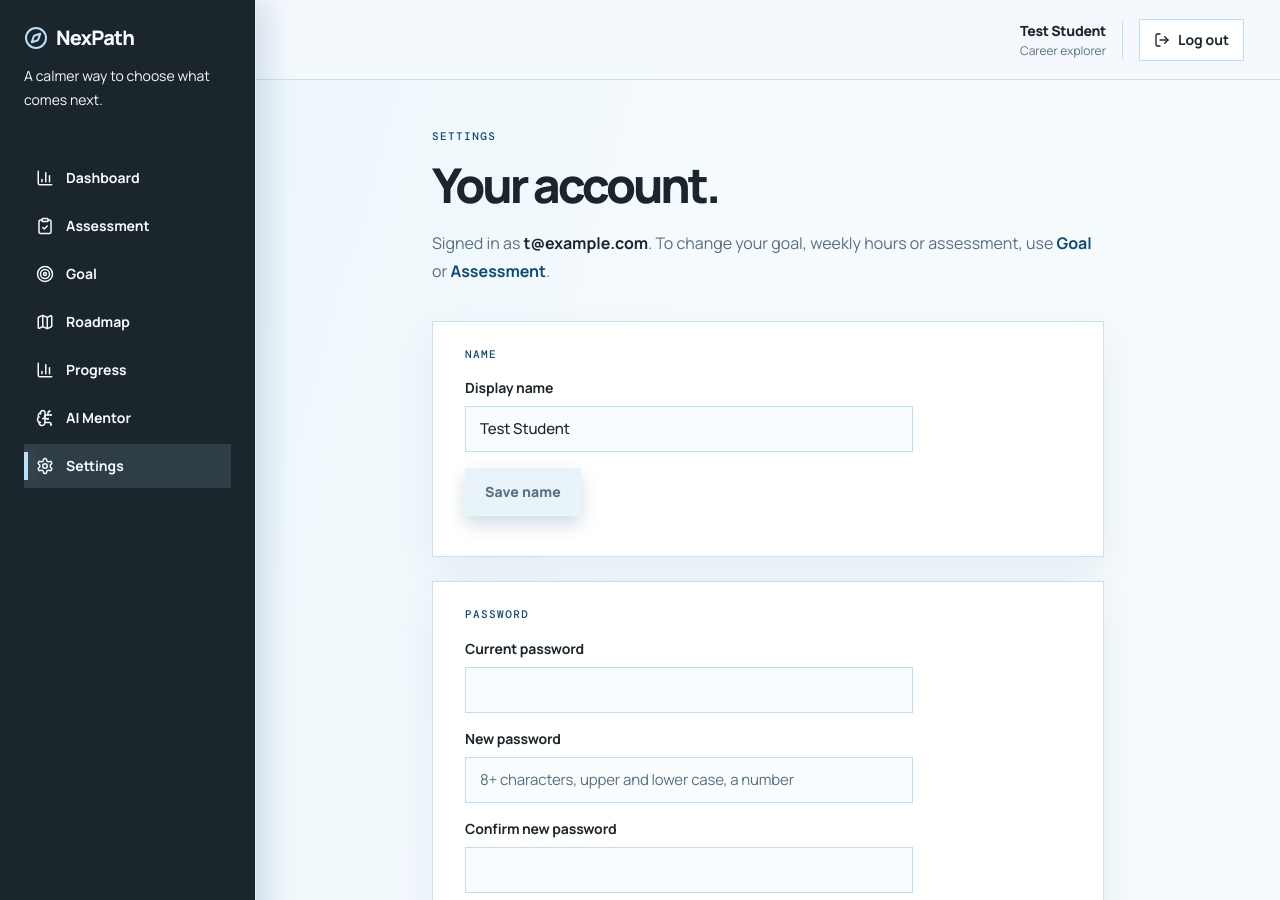
Scenario: settings page › saves a new name and refreshes the signed-in user
Replace the text in the field labelled "Display name" with "Priya Nair" at coordinates (689, 429), box [465,406,913,452]
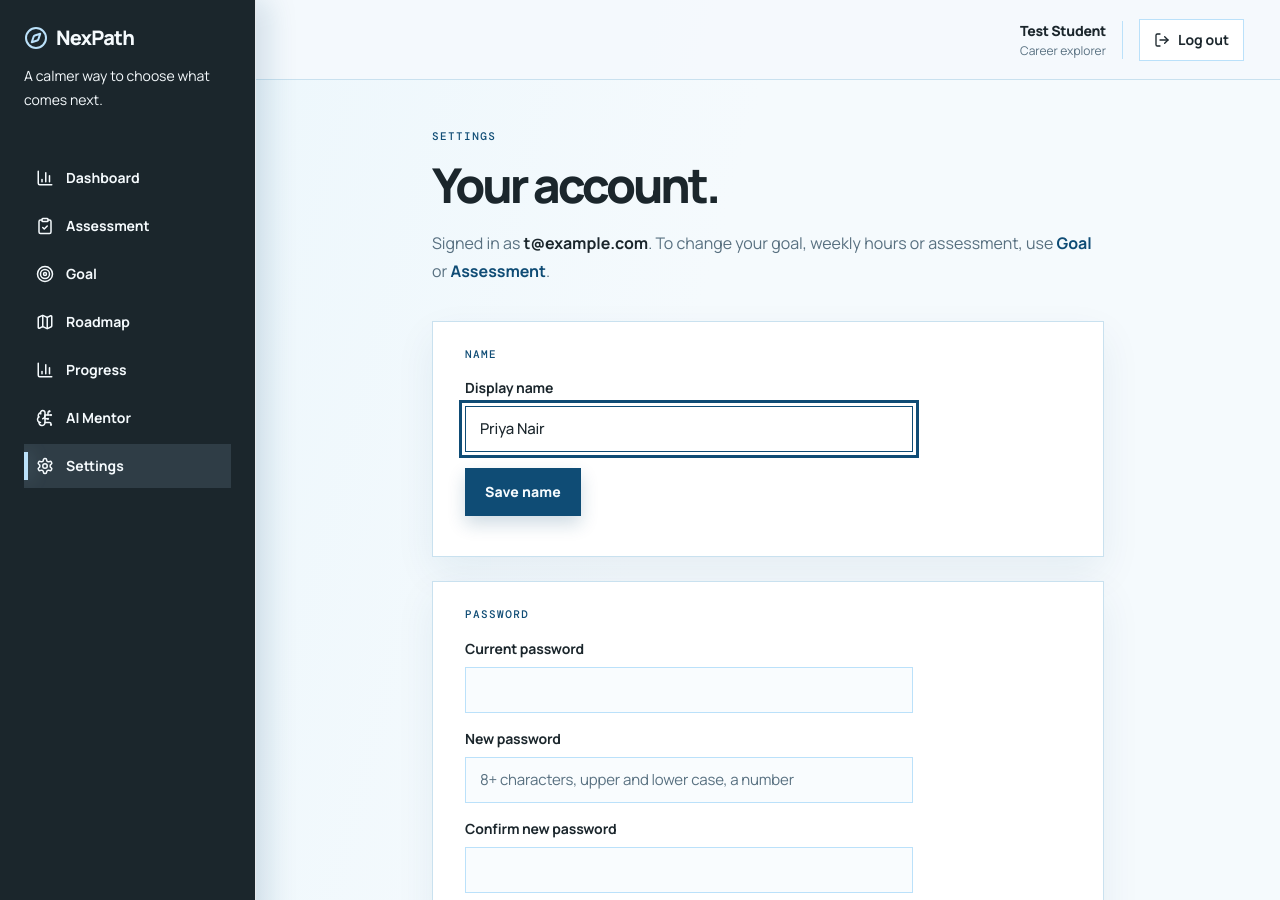
Click the button "Save name" at coordinates (523, 492), box [465,468,581,516]
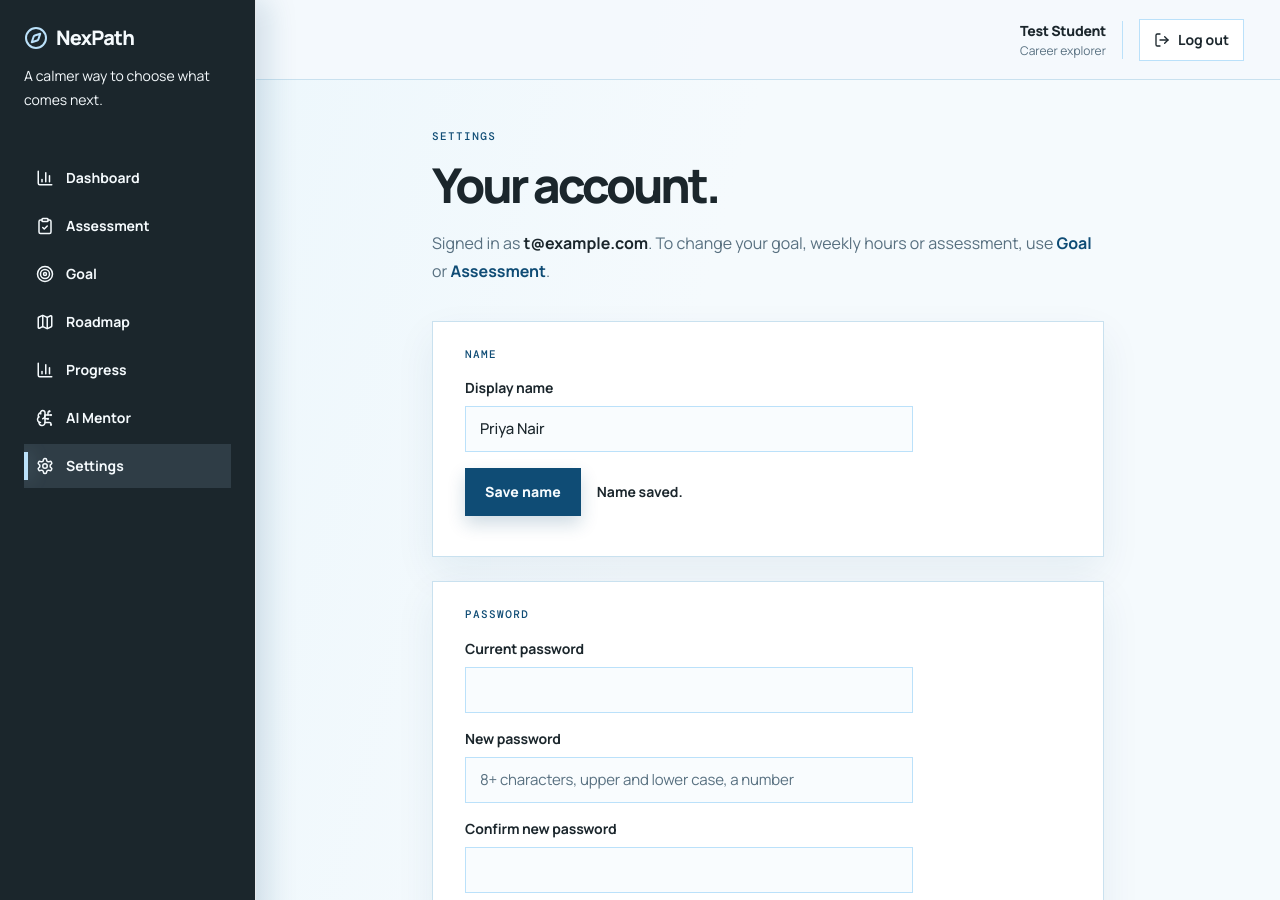
Now the text "Name saved." is shown, box [597,482,683,502]
